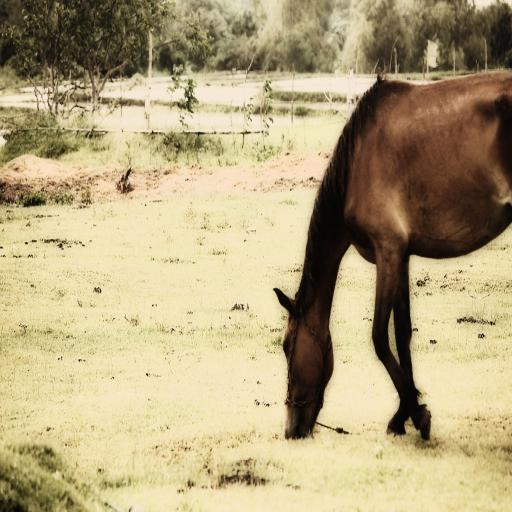horse: (270, 66, 512, 440)
